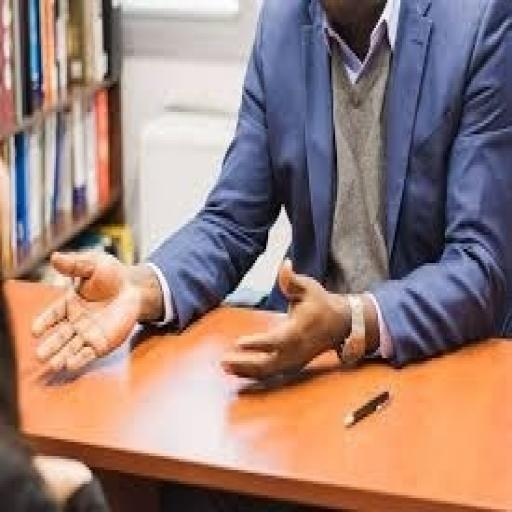sitting: (30, 0, 510, 389)
